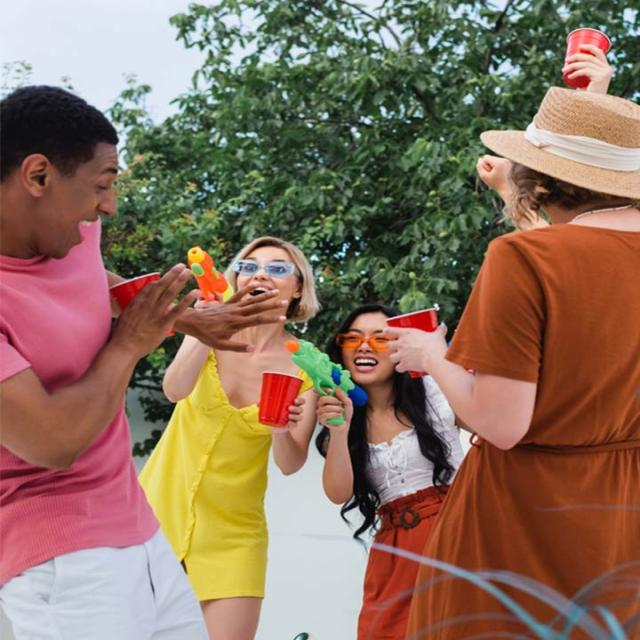adult: (0, 82, 283, 637), (406, 87, 640, 640), (140, 237, 319, 640), (317, 267, 465, 640)
